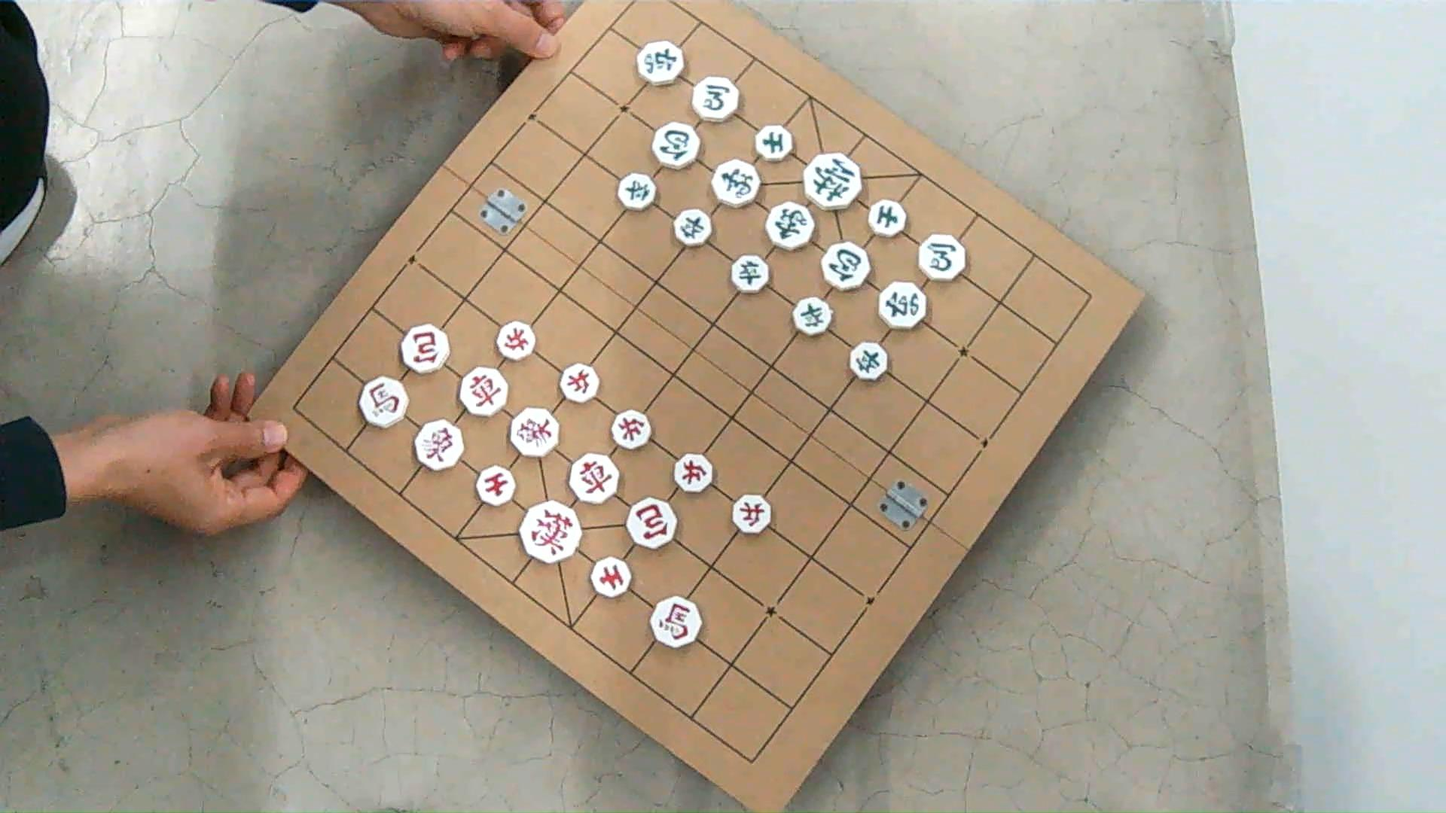cha_green: (878, 282, 929, 329), (636, 41, 684, 84)
cha_red: (569, 453, 618, 504), (459, 367, 507, 416)
jol_green: (792, 297, 831, 335), (618, 172, 656, 210), (850, 343, 889, 380), (731, 255, 768, 292), (675, 209, 712, 245)
jol_red: (611, 410, 651, 449), (496, 321, 535, 361), (732, 494, 771, 534), (560, 364, 599, 403), (673, 453, 712, 492)
ma_green: (917, 233, 966, 281), (691, 76, 739, 120)
ma_red: (650, 596, 701, 647), (358, 376, 407, 428)
po_green: (823, 242, 871, 290), (652, 122, 699, 169)
po_red: (627, 498, 676, 549), (401, 324, 449, 373)
sa_green: (868, 199, 906, 237), (755, 126, 792, 161)
sa_red: (590, 557, 630, 597), (475, 465, 514, 506)
sang_green: (767, 201, 814, 250), (712, 160, 760, 207)
sang_red: (413, 419, 462, 470), (509, 408, 558, 456)
wang_green: (804, 152, 862, 210)
wang_red: (520, 501, 581, 563)
